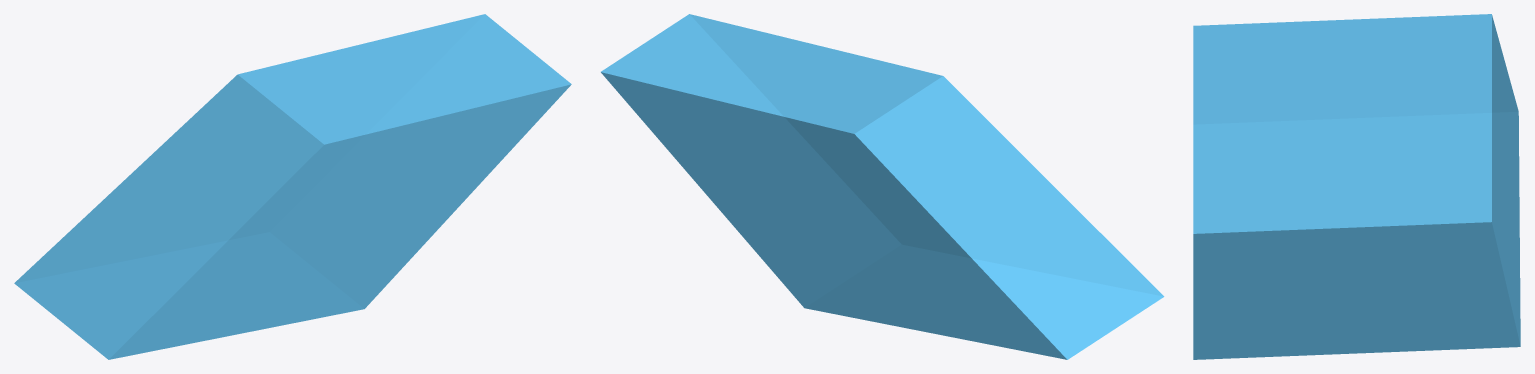
The model's file is Event_421278790_HBrechit_13.fbx.
3 views of the same model, side by side, from view 1: azimuth 30°, elevation 25°; view 2: azimuth 150°, elevation 25°; view 3: azimuth 270°, elevation 25° (orthographic). The views are drawn at different scales.
Parts seen in each view (by area): view 1: Model; view 2: Model; view 3: Model.
Part boxes in pixels (box(x1,y1,x2,y2)): Model: box(14, 14, 571, 359); Model: box(601, 14, 1164, 359); Model: box(1193, 14, 1520, 359).
Bounding box in the file's own units: 1.24 × 0.4627 × 0.4401.
